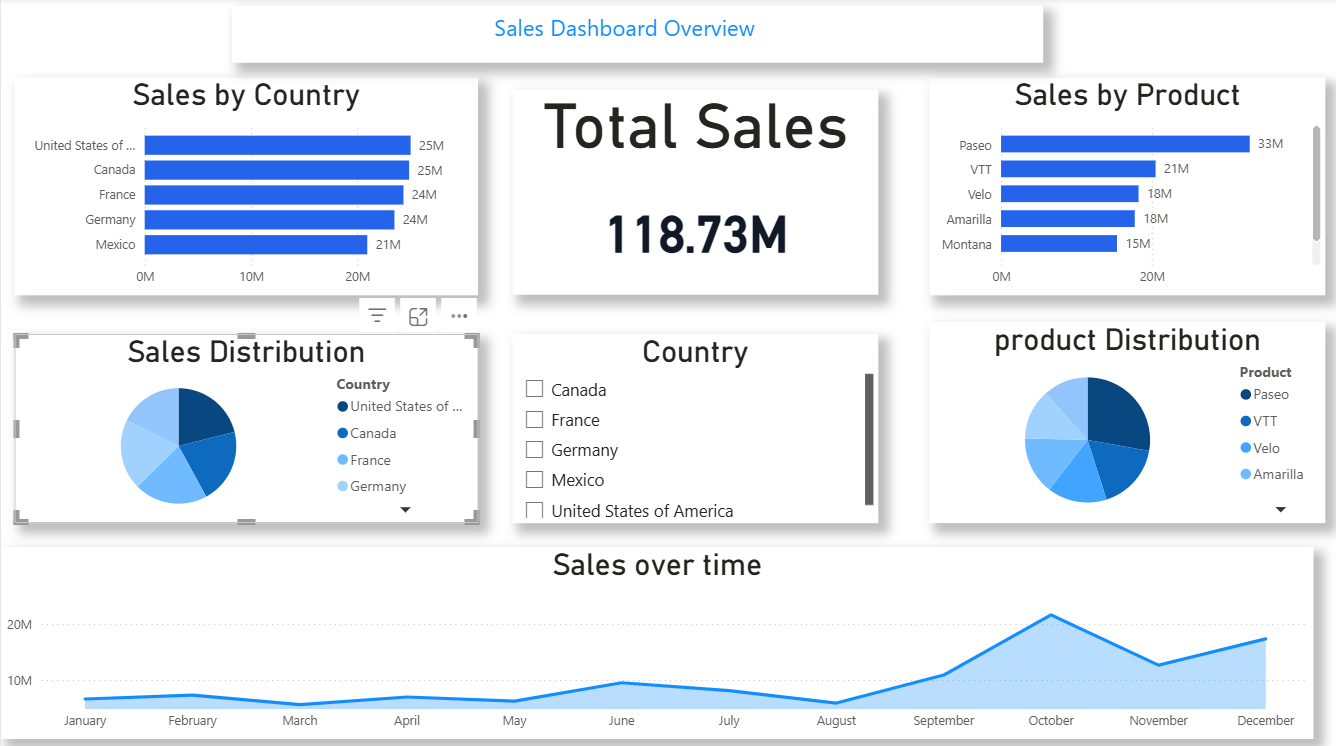

Layout of this report page (visuals, bound fields, positions):
{"tool":"powerbi","page":{"name":"Overview","canvas":[1280,720],"ordinal":0},"visuals":[{"type":"slicer","title":"Country","fields":{"Values":["financials.Country"]},"box":[488.4,320.9,349.5,180.5],"z":0},{"type":"card","title":"Total Sales","fields":{"Values":["Sum(financials.Sales)"]},"box":[488.4,87.4,349.5,196.2],"z":1000},{"type":"pieChart","title":" Sales Distribution ","fields":{"Category":["financials.Country"],"Y":["Sum(financials.Sales)"]},"box":[12.9,320.9,442.6,180.5],"z":2000},{"type":"barChart","title":" Sales by Country","fields":{"Category":["financials.Country"],"Y":["Sum(financials.Sales)"]},"box":[12.9,75.9,442.6,207.7],"z":3000},{"type":"lineChart","title":"Sales over time","fields":{"Category":["financials.Month Name"],"Y":["Sum(financials.Sales)"]},"box":[0,524.3,1253.3,183.3],"z":4000},{"type":"barChart","title":" Sales by Product","fields":{"Category":["financials.Product"],"Y":["Sum(financials.Sales)"]},"box":[886.6,75.9,378.2,207.7],"z":5000},{"type":"pieChart","title":"product Distribution ","fields":{"Category":["financials.Product"],"Y":["Sum(financials.Sales)"]},"box":[886.6,309.4,378.2,191.9],"z":6000},{"type":"textbox","box":[220.6,7.2,774.9,54.4],"z":7000}]}

Visuals, with their boxes in screenshot pixels (x1, y1, x2, y2), scaled from the page's 1280x720 canvas onto the 1336x746 screenshot:
"Country" slicer: <bbox>510, 332, 875, 520</bbox>
"Total Sales" card: <bbox>510, 91, 875, 294</bbox>
" Sales Distribution " pieChart: <bbox>13, 332, 475, 520</bbox>
" Sales by Country" barChart: <bbox>13, 79, 475, 294</bbox>
"Sales over time" lineChart: <bbox>0, 543, 1308, 733</bbox>
" Sales by Product" barChart: <bbox>925, 79, 1320, 294</bbox>
"product Distribution " pieChart: <bbox>925, 321, 1320, 519</bbox>
textbox: <bbox>230, 7, 1039, 64</bbox>
